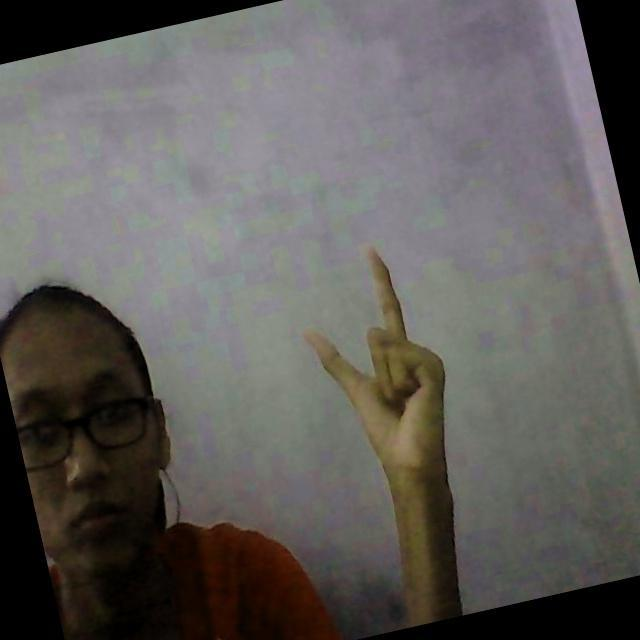U: (293, 241, 441, 412)
